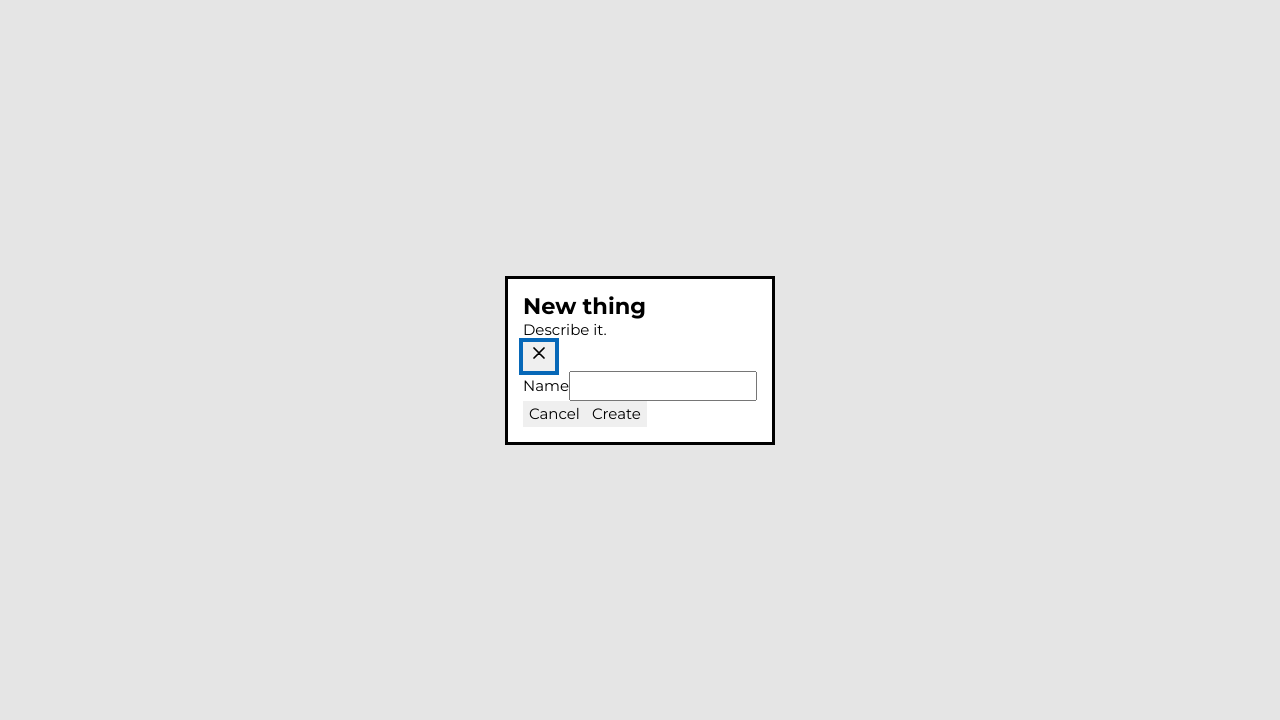
Test case: FormModal › explains an invalid form with a banner and keeps the form
Step 1. Click the button "Create" → coordinates (616, 414), box [586,400,647,426]
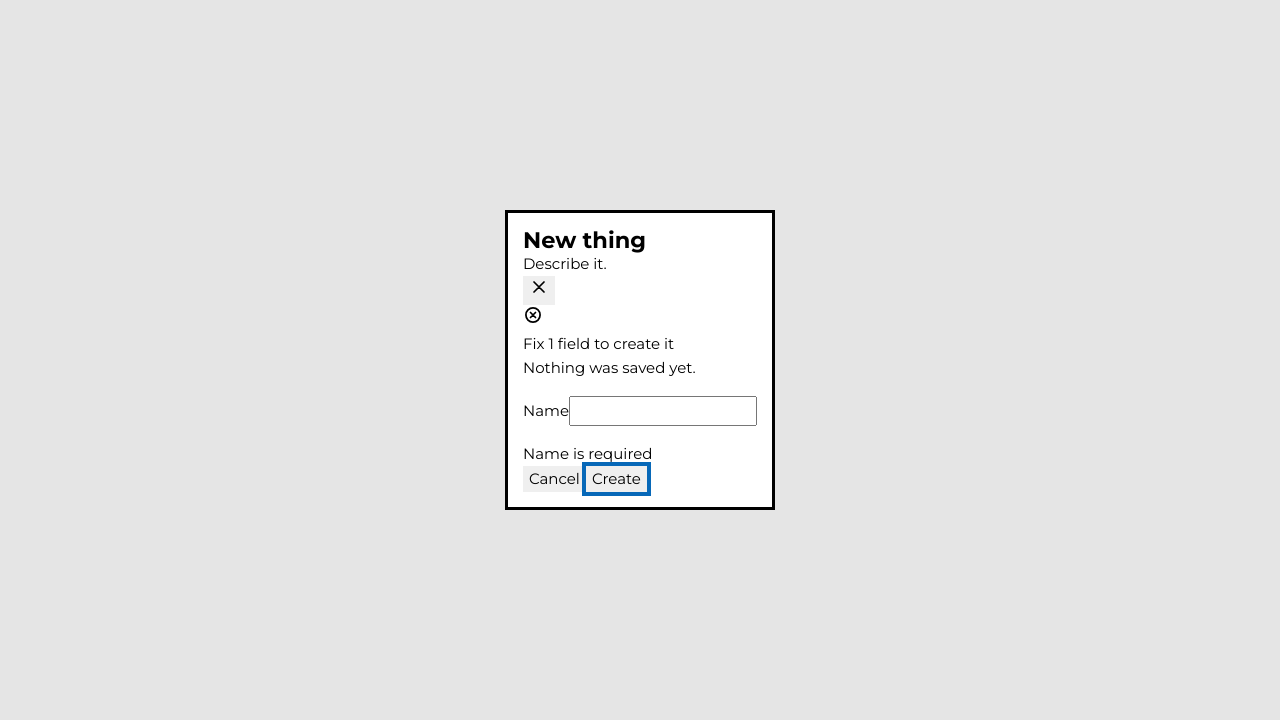
Result: the message shows "Fix 1 field to create it" at [523,334,674,353]
Result: the text "Nothing was saved yet." is shown at [523,358,696,377]
Result: the text "Name is required" is shown at [523,444,652,463]
